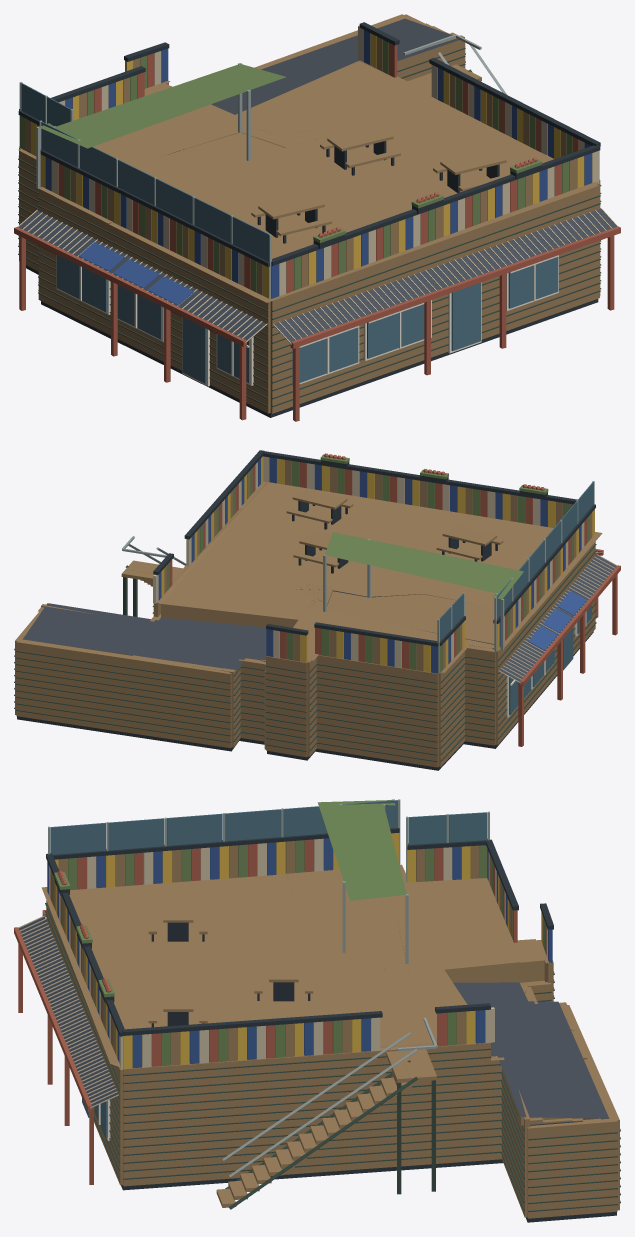
File: hannekes-boom.glb
3 renders of one model, top to bottom at view 1: azimuth 30°, elevation 25°; view 2: azimuth 150°, elevation 25°; view 3: azimuth 270°, elevation 25°, orthographic. The views are drawn at different scales.
Visible parts, largest first — view 1: hannekes-boom; view 2: hannekes-boom; view 3: hannekes-boom.
Boxes of the visible parts, x1=… form: hannekes-boom: x1=14, y1=14, x2=620, y2=421; hannekes-boom: x1=14, y1=450, x2=620, y2=770; hannekes-boom: x1=14, y1=799, x2=620, y2=1222.
Bounding box in the file's own units: 17.14 × 6.02 × 17.24.
